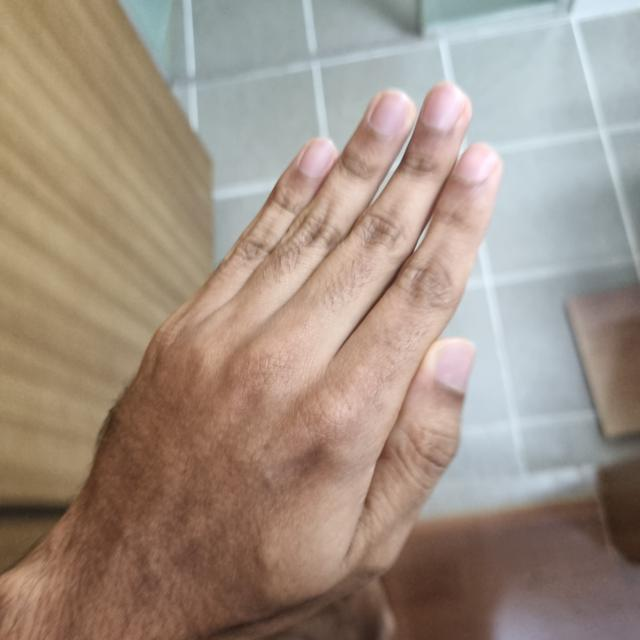Paper: (18, 86, 502, 639)
